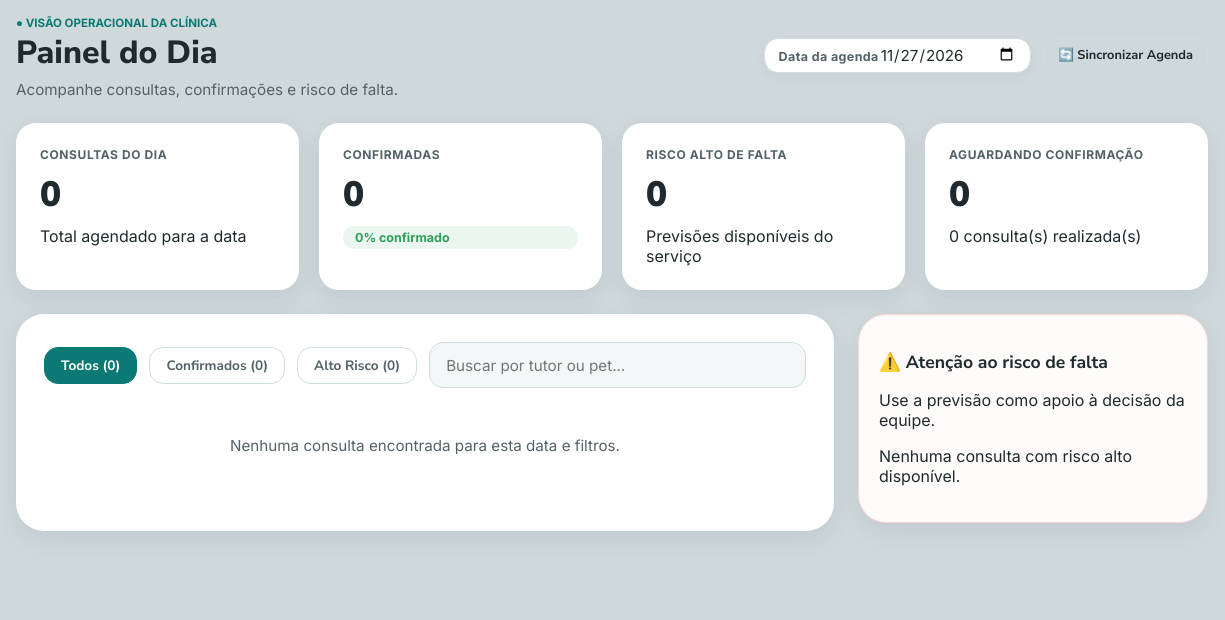
Test: agenda vazia e falha de rede nao exibem pacientes simulados
The image size is (1225, 620).
Click the button "🔄 Sincronizar Agenda" at (1125, 55), box [1043, 39, 1208, 71]
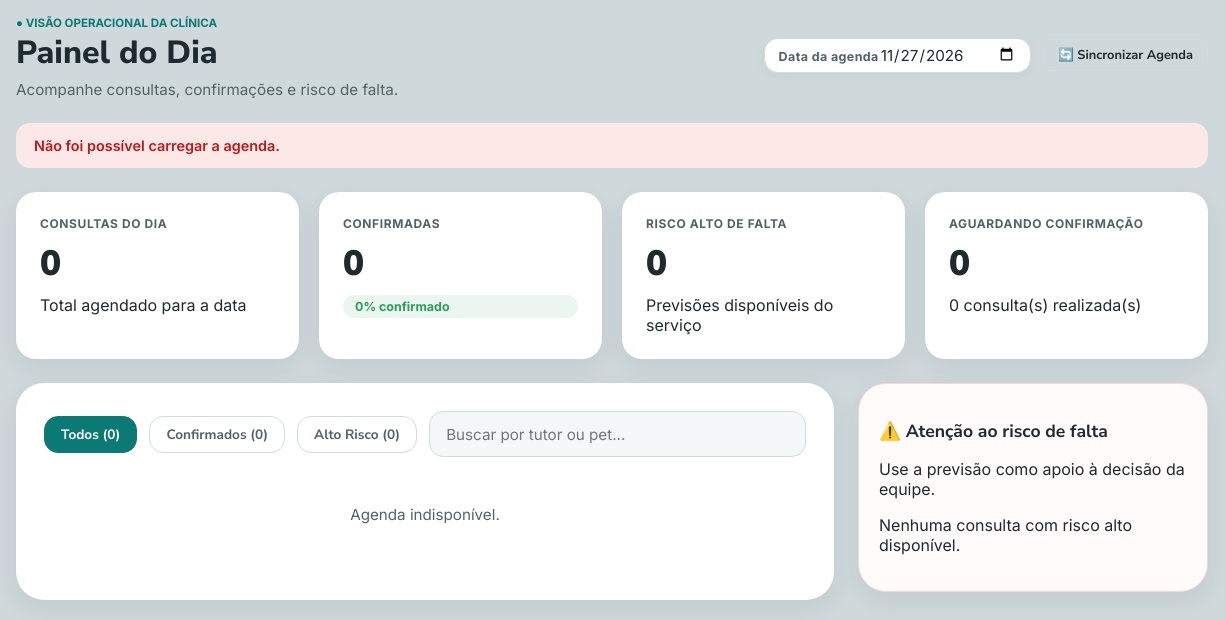
Now the message "Não foi possível carregar a agenda." is shown, box [16, 123, 1208, 168]
